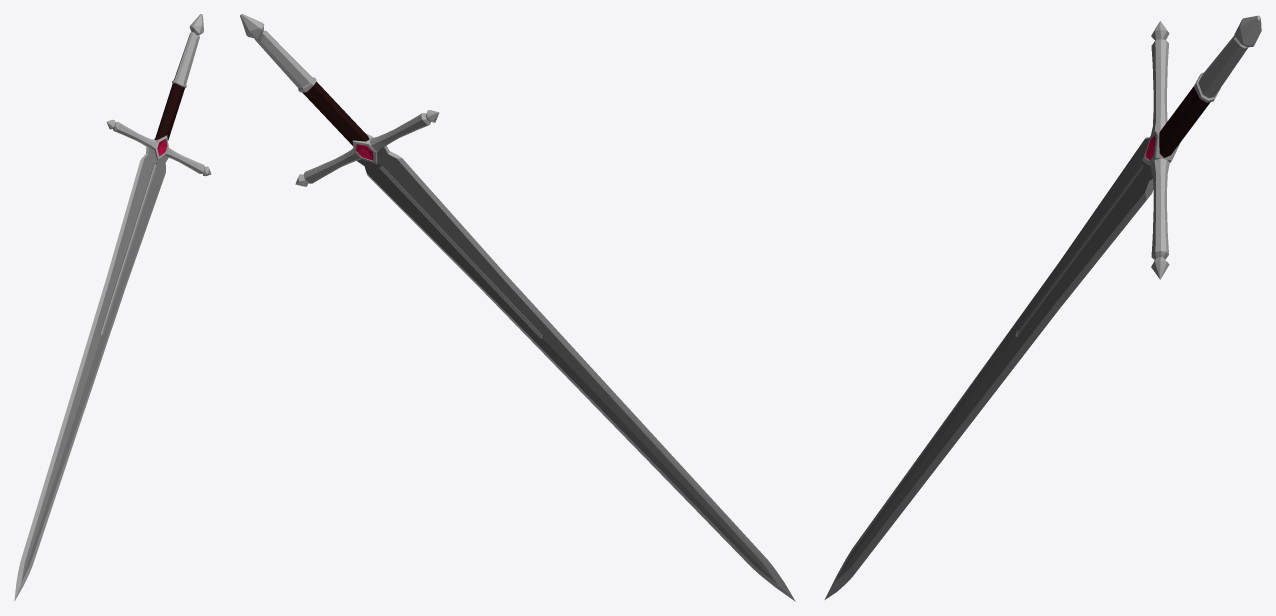
File: left_arm.glb
3 renders of one model, left to right at view 1: azimuth 30°, elevation 25°; view 2: azimuth 150°, elevation 25°; view 3: azimuth 270°, elevation 25°, orthographic. The views are drawn at different scales.
Visible parts, largest first — view 1: Cube.017; view 2: Cube.017; view 3: Cube.017.
Part boxes in pixels (x1=…): Cube.017: x1=14, y1=14, x2=211, y2=601; Cube.017: x1=240, y1=14, x2=795, y2=601; Cube.017: x1=824, y1=15, x2=1261, y2=599.
Bounding box in the file's own units: 0.5758 × 0.8087 × 0.3672.
